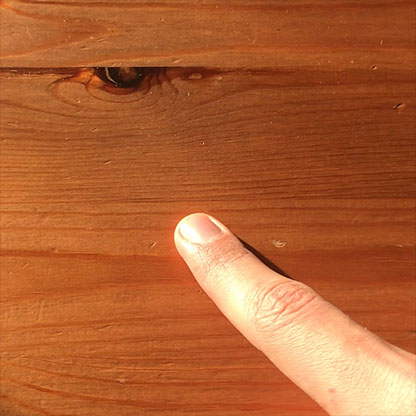fingertip: (166, 201, 241, 267)
